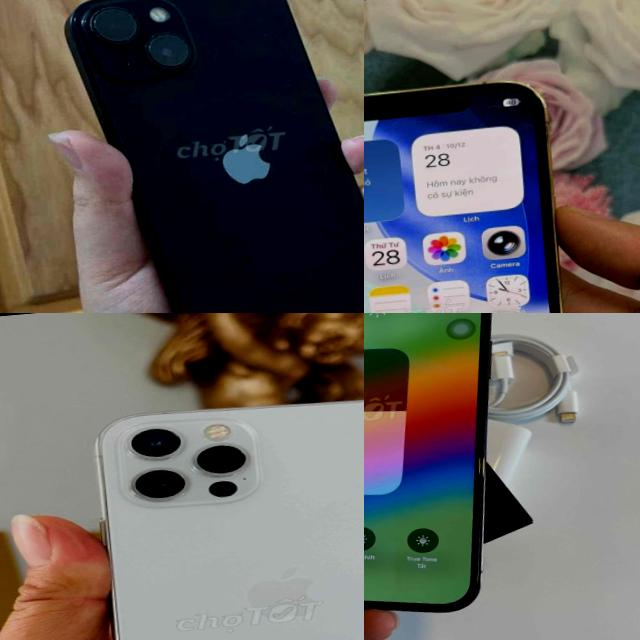gen_12_13: (54, 0, 364, 313), (72, 382, 364, 640), (364, 77, 589, 313), (364, 313, 524, 631)
